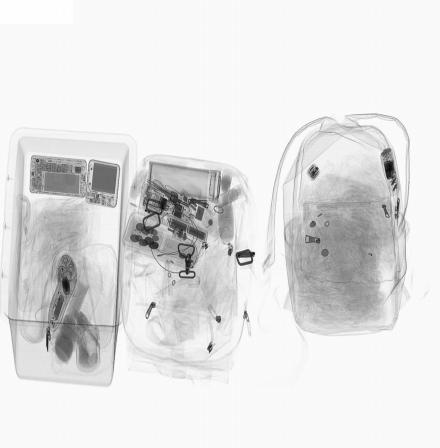Powerbank: (83, 158, 122, 210)
